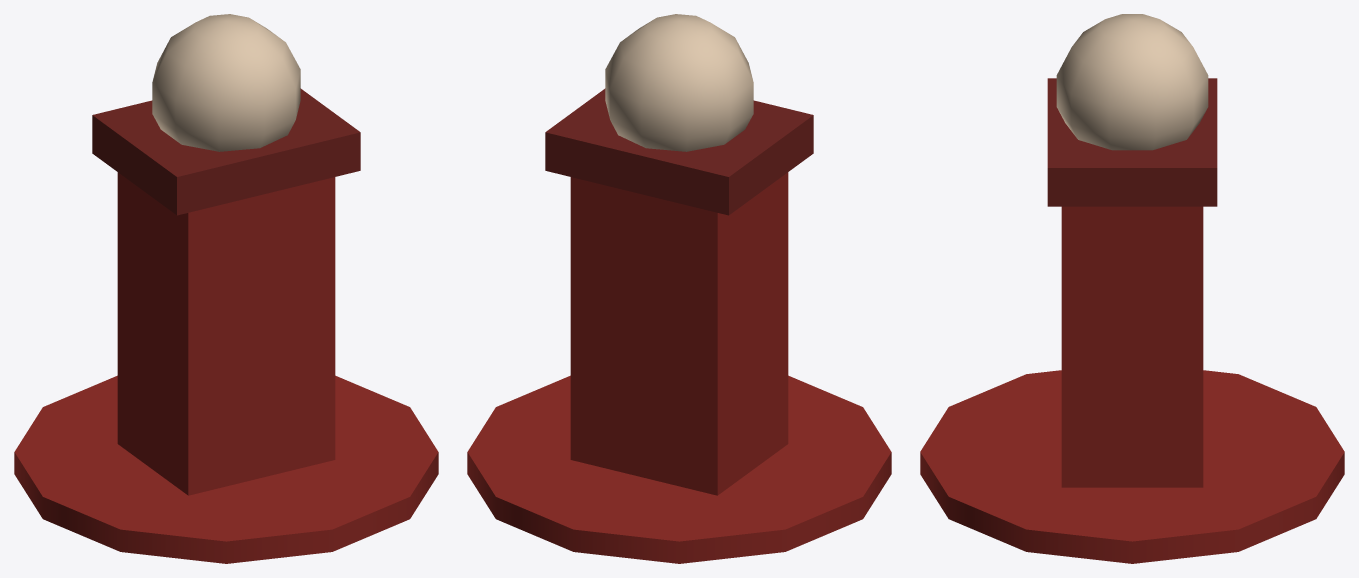
Rendered from xue_mai_xiu_shi.glb.
The picture shows the model from 3 angles, left to right: view 1: azimuth 30°, elevation 25°; view 2: azimuth 150°, elevation 25°; view 3: azimuth 270°, elevation 25°; orthographic projection.
Parts seen in each view (by area): view 1: _MeshInstance3D_43, _MeshInstance3D_42, _MeshInstance3D_45, _MeshInstance3D_44; view 2: _MeshInstance3D_43, _MeshInstance3D_42, _MeshInstance3D_45, _MeshInstance3D_44; view 3: _MeshInstance3D_42, _MeshInstance3D_43, _MeshInstance3D_44, _MeshInstance3D_45.
Part boxes in pixels (x1,y1,x2,y2): _MeshInstance3D_43: (117,172,335,495); _MeshInstance3D_42: (14,375,438,563); _MeshInstance3D_45: (92,88,360,215); _MeshInstance3D_44: (152,14,300,151); _MeshInstance3D_43: (570,172,788,495); _MeshInstance3D_42: (467,375,891,563); _MeshInstance3D_45: (545,88,813,215); _MeshInstance3D_44: (605,14,753,151); _MeshInstance3D_42: (920,370,1344,563); _MeshInstance3D_43: (1061,206,1203,487); _MeshInstance3D_44: (1056,14,1208,150); _MeshInstance3D_45: (1047,78,1217,206).
Size of the model in its own units: 0.6 by 0.7075 by 0.6.
